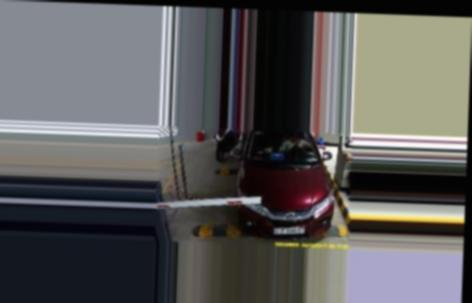License_Plate: (271, 225, 308, 237)
